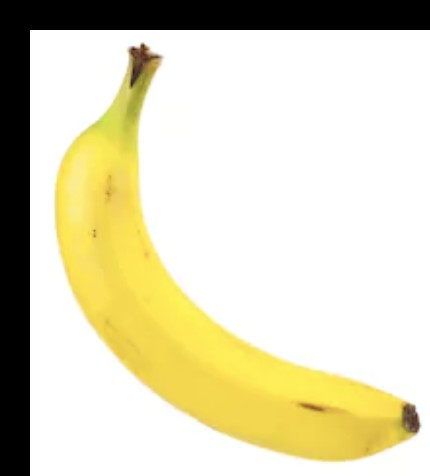fresh_banana: (55, 45, 422, 462)
